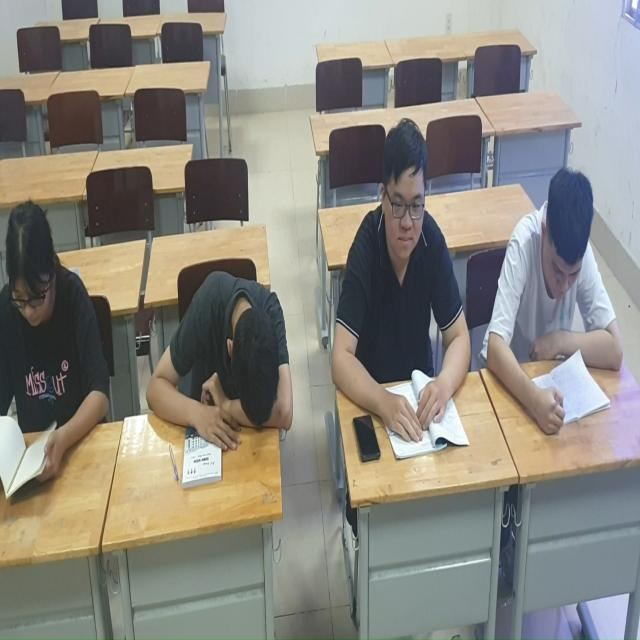read: (322, 118, 474, 477), (492, 164, 624, 428), (1, 200, 110, 502)
sleep: (146, 272, 296, 468)
